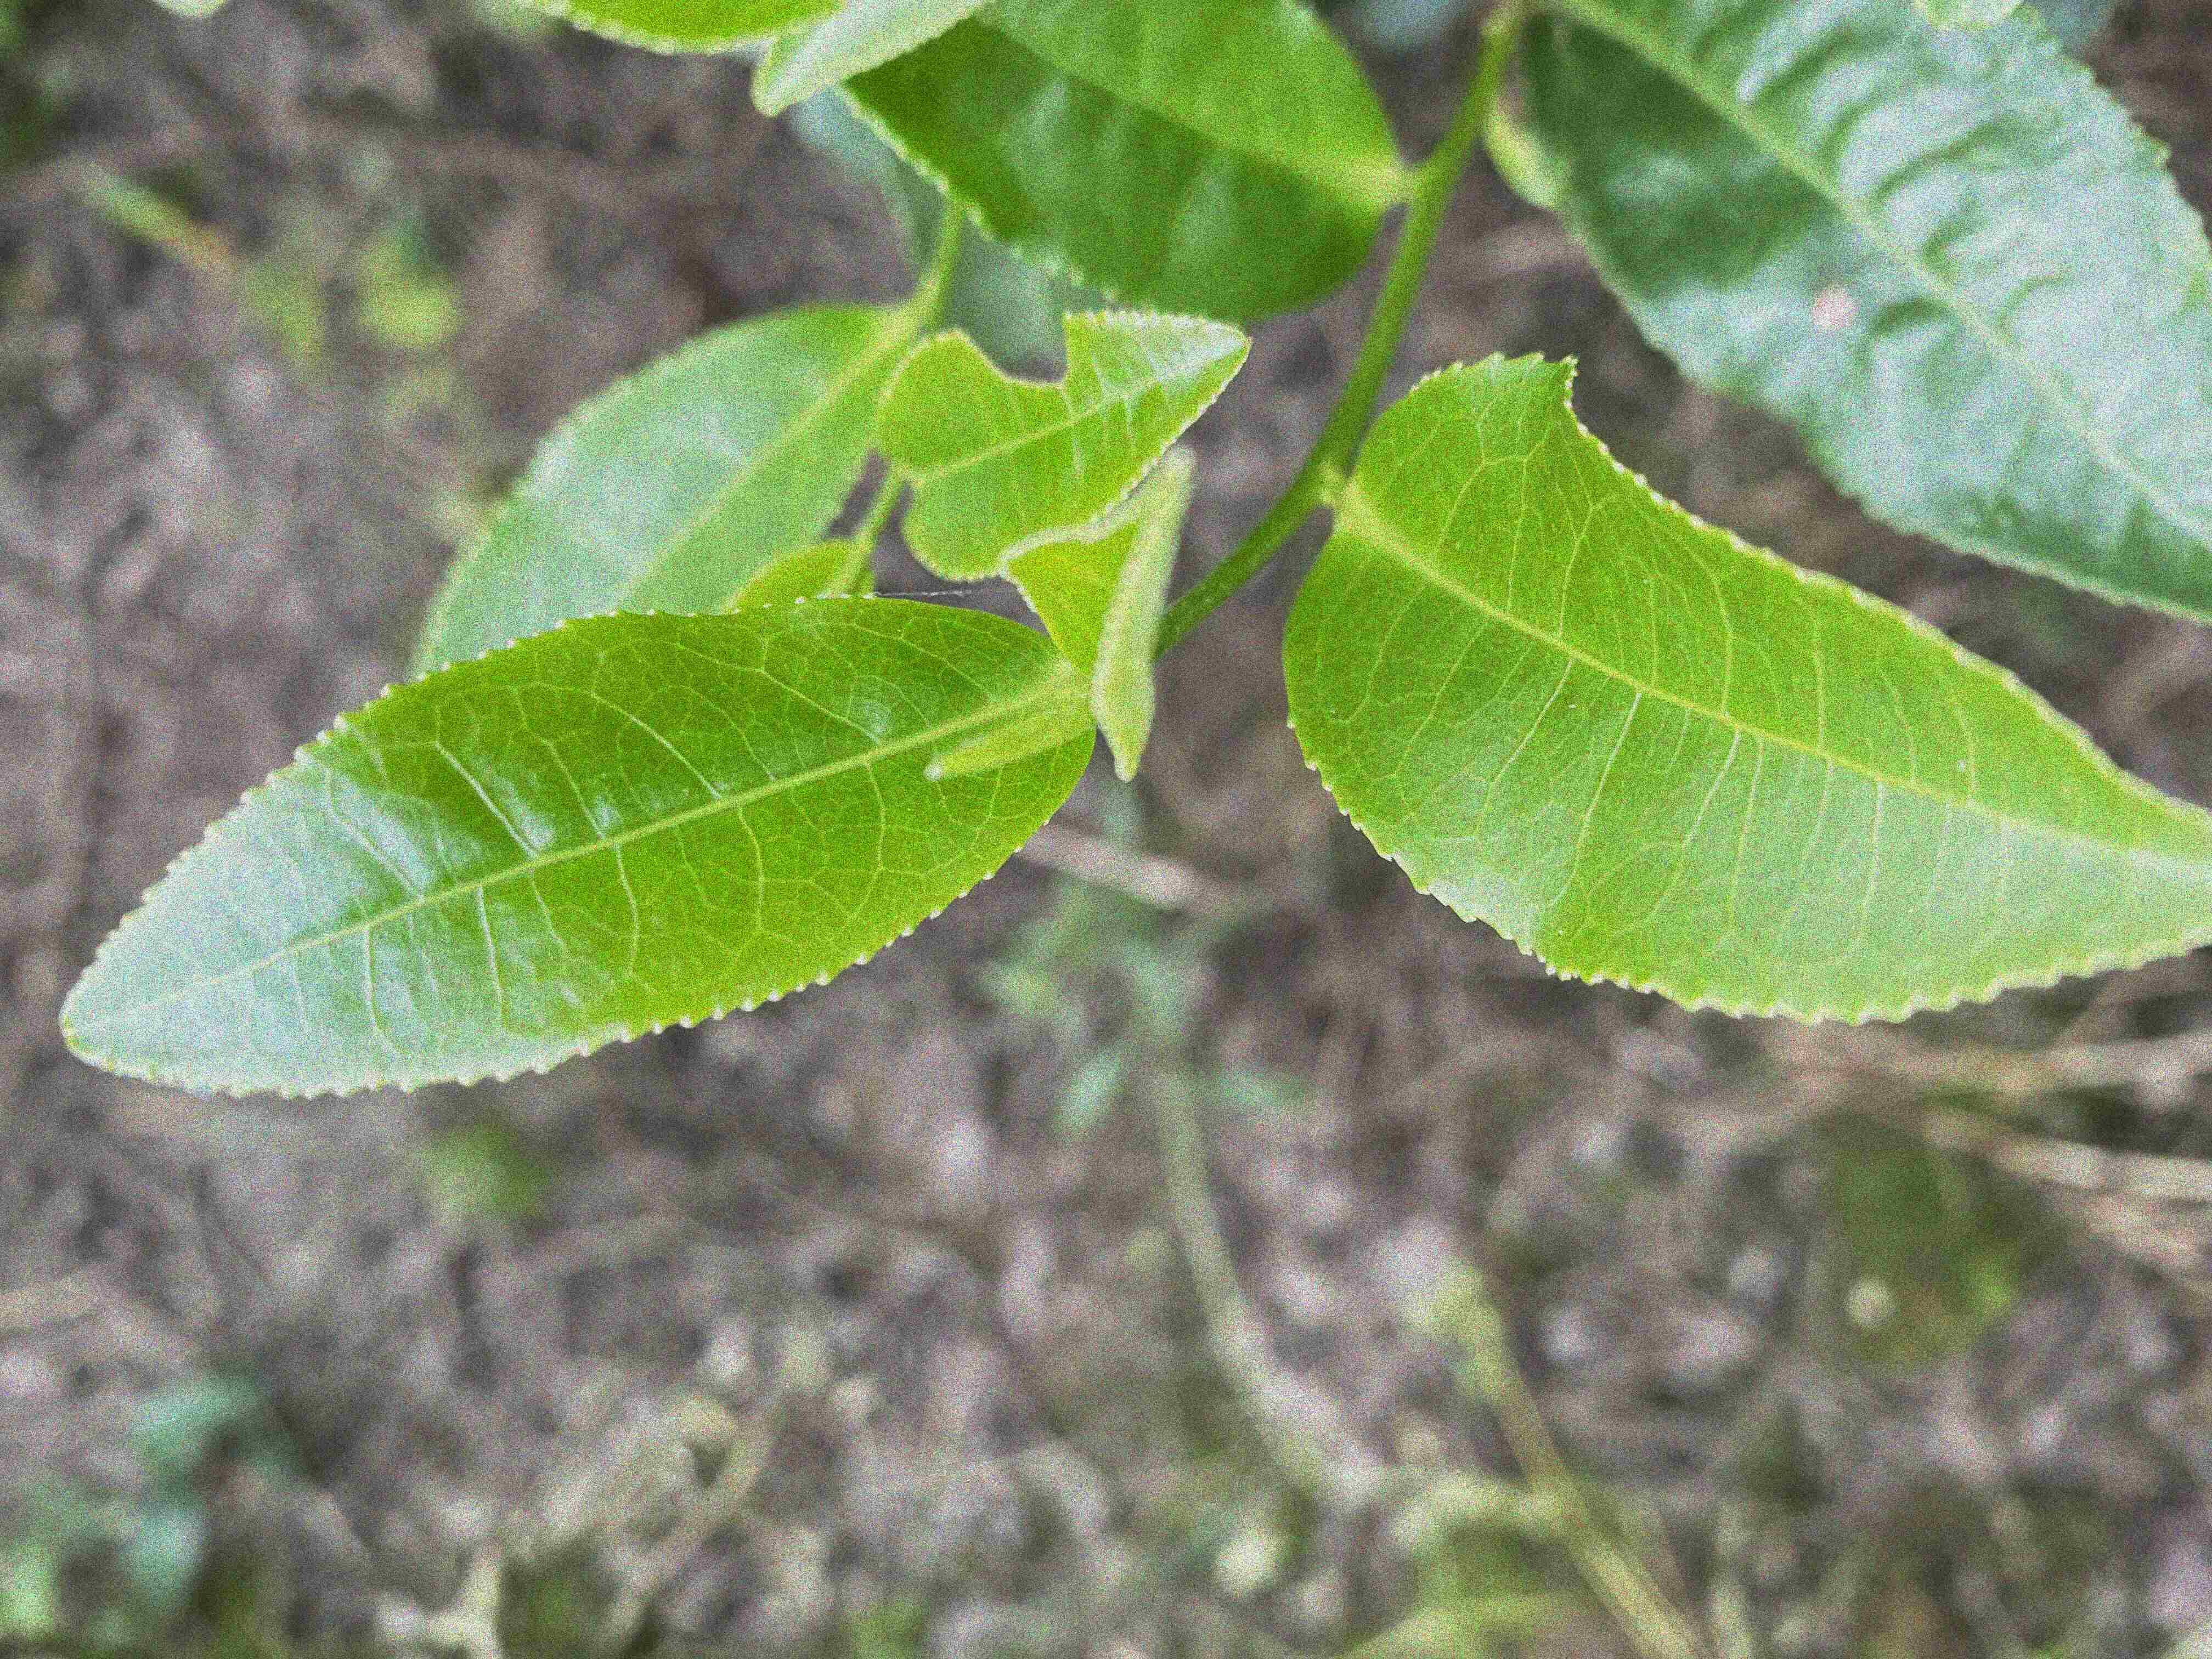chihuo_low: (871, 305, 1252, 580)
healthy: (1277, 349, 2210, 1025), (52, 596, 1097, 1096)
tanju_low: (1517, 2, 2210, 627)
